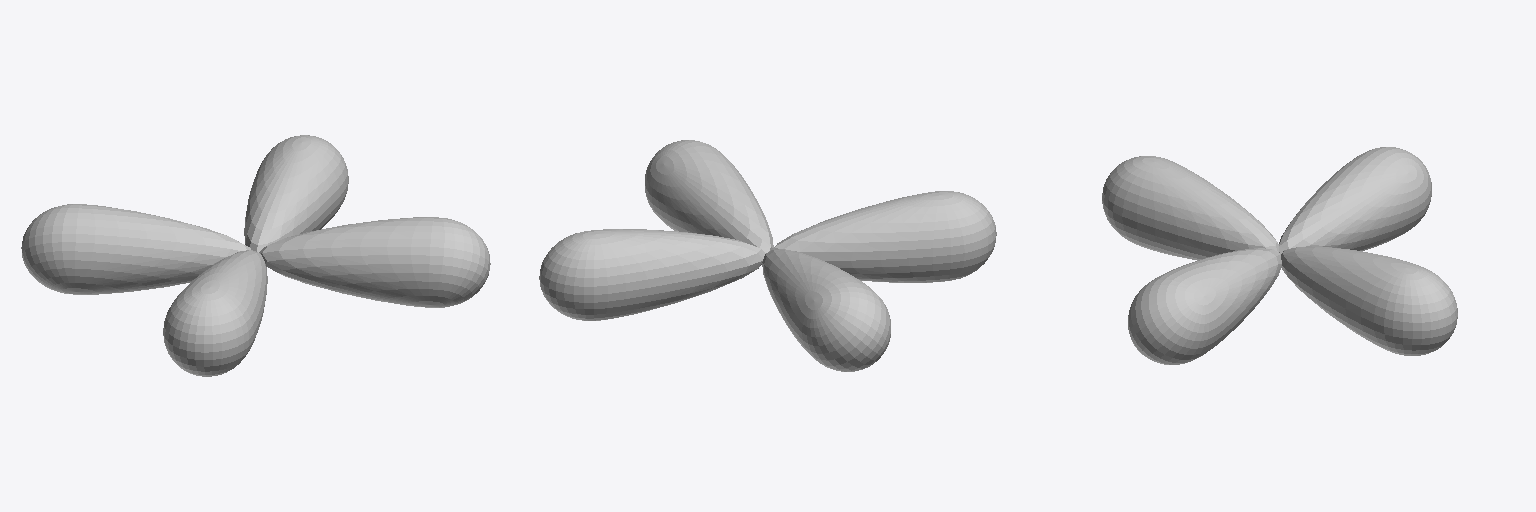
The picture shows the model from 3 angles: view 1: azimuth 30°, elevation 25°; view 2: azimuth 150°, elevation 25°; view 3: azimuth 270°, elevation 25°; orthographic projection.
Visible parts, largest first — view 1: dx 2, dz2; view 2: dz2, dx 2; view 3: dz2, dx 2.
Boxes of the visible parts, <box> form: dx 2: <box>21,204,490,307</box>; dz2: <box>163,135,348,376</box>; dz2: <box>539,191,996,320</box>; dx 2: <box>645,140,890,371</box>; dz2: <box>1102,156,1457,355</box>; dx 2: <box>1128,147,1431,364</box>.
Bounding box in the file's own units: 36.18 × 8.21 × 32.2.